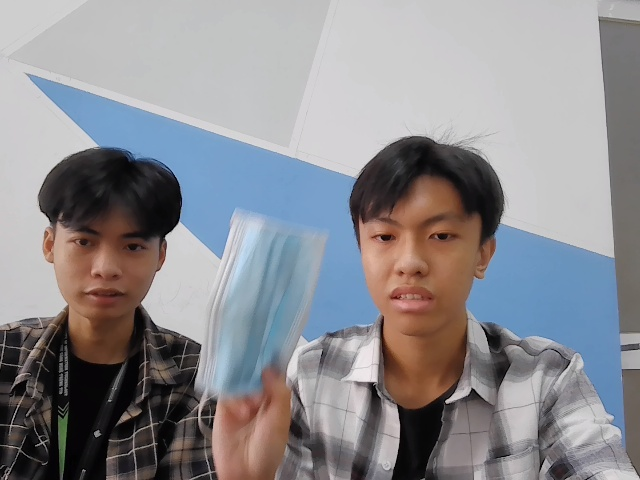human: (351, 140, 497, 332), (33, 146, 182, 328)
mask: (192, 201, 326, 406)
